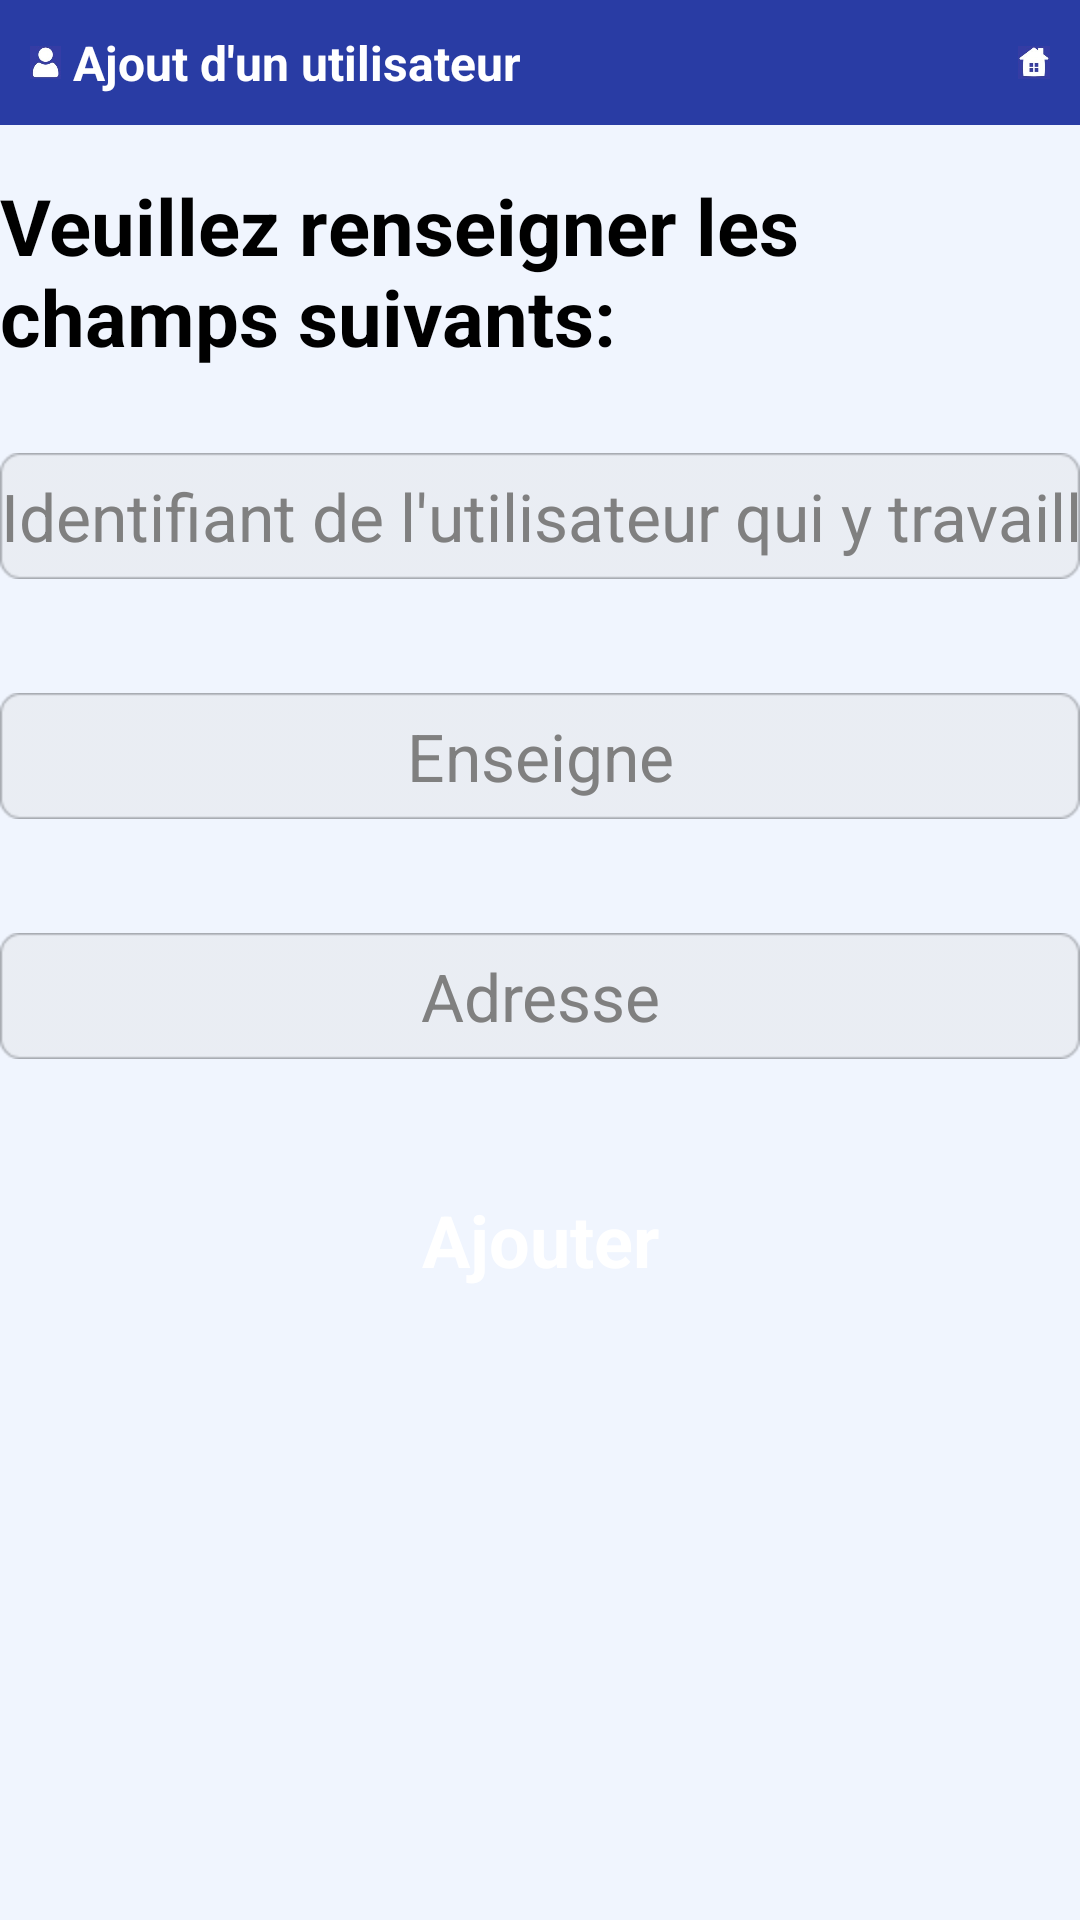

Named icons in this screenshot (1080 × 1920) and their bounding boxes, bbox=[x1, y1, x2, y2]:
home: bbox=[1019, 47, 1049, 77]
user: bbox=[32, 47, 59, 78]
